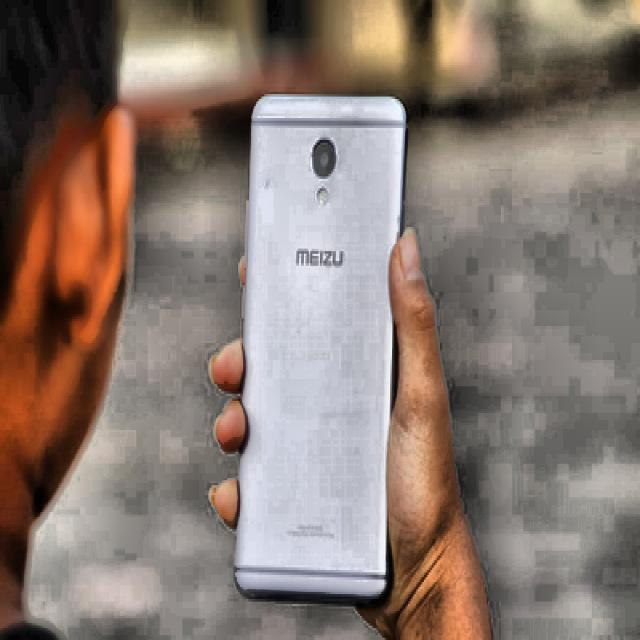Phone: (234, 89, 408, 604)
